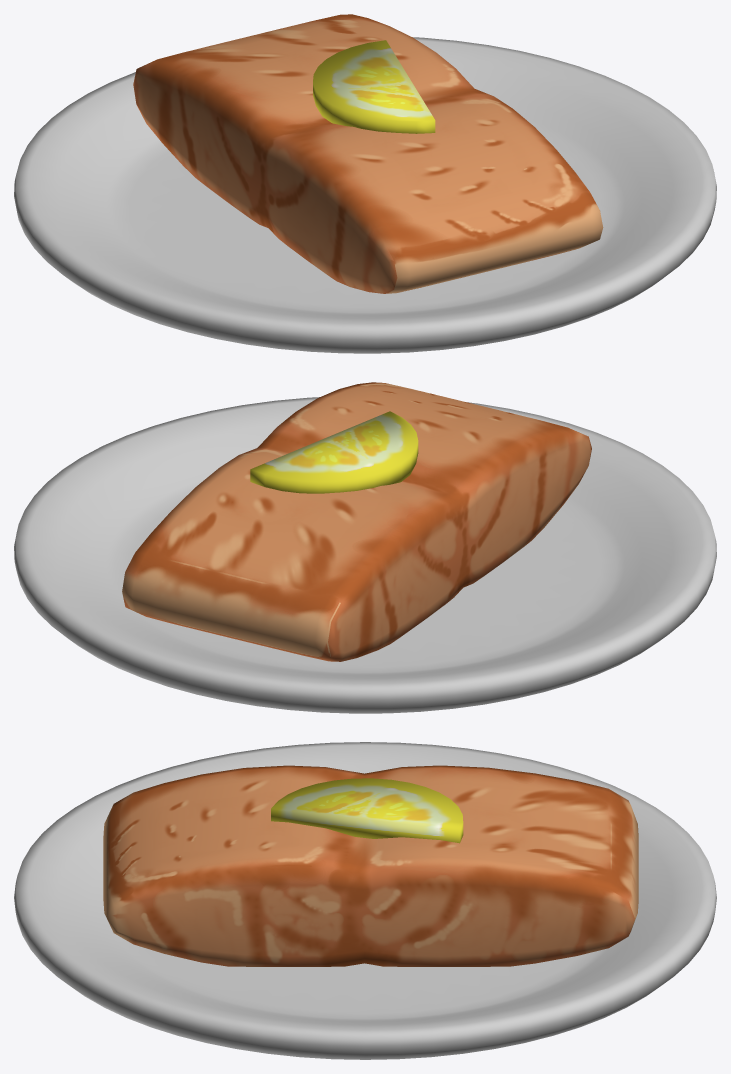
Rendered from FriedSalmon.fbx.
3 views of the same model, one above another, from view 1: azimuth 30°, elevation 25°; view 2: azimuth 150°, elevation 25°; view 3: azimuth 270°, elevation 25° (orthographic).
Visible parts, largest first — view 1: SalmonPlate, Salmon, Lemon; view 2: SalmonPlate, Salmon, Lemon; view 3: Salmon, SalmonPlate, Lemon.
Boxes of the visible parts, x1,y1,x2,y2 form: SalmonPlate: (14, 37, 716, 353); Salmon: (133, 14, 603, 293); Lemon: (313, 40, 435, 133); SalmonPlate: (14, 397, 716, 713); Salmon: (122, 382, 591, 661); Lemon: (250, 411, 418, 493); Salmon: (103, 765, 638, 966); SalmonPlate: (14, 742, 716, 1059); Lemon: (271, 778, 463, 843).
Size of the model in its own units: 66.8 by 15.95 by 66.8.
3 materials, 3 textured.
